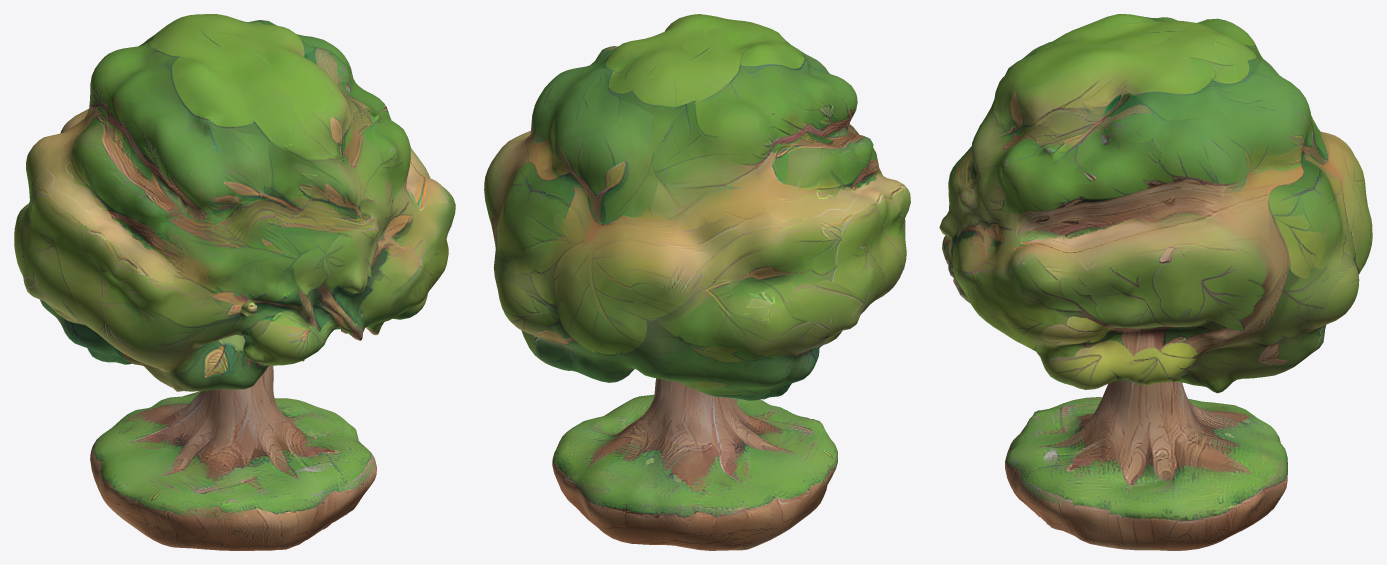
File: treeisland.glb
3 views of the same model, side by side, from view 1: azimuth 30°, elevation 25°; view 2: azimuth 150°, elevation 25°; view 3: azimuth 270°, elevation 25° (orthographic).
Parts seen in each view (by area): view 1: Mesh_0_Material_0_0; view 2: Mesh_0_Material_0_0; view 3: Mesh_0_Material_0_0.
Part boxes in pixels (bbox=[...]): Mesh_0_Material_0_0: bbox=[14, 14, 455, 550]; Mesh_0_Material_0_0: bbox=[484, 14, 910, 550]; Mesh_0_Material_0_0: bbox=[939, 14, 1372, 550].
Size of the model in its own units: 0.8132 by 1 by 0.8231.
Materials: 1 (1 with a texture image).
